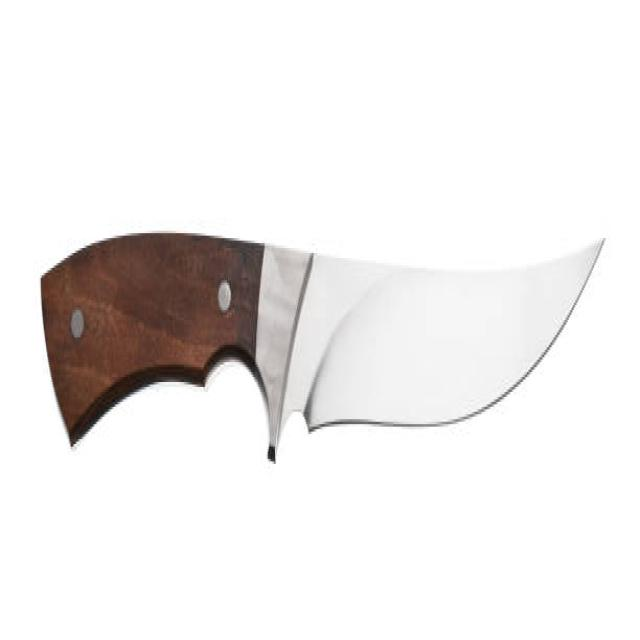knife: (37, 225, 614, 464)
